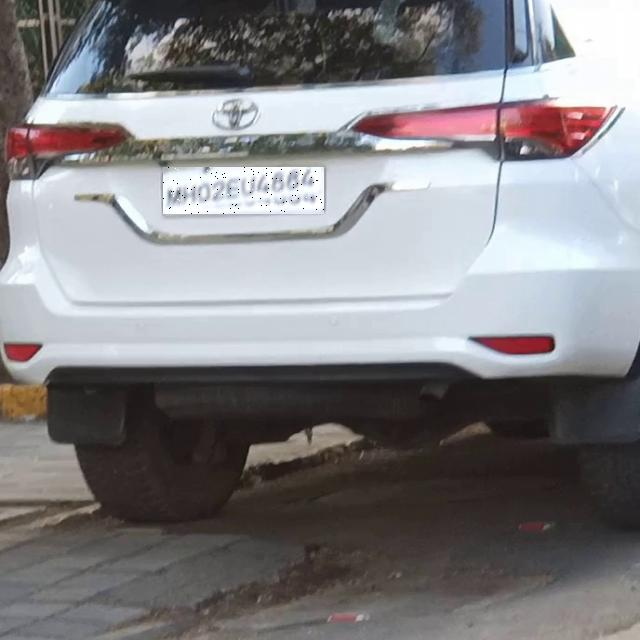Plate: (164, 168, 325, 215)
